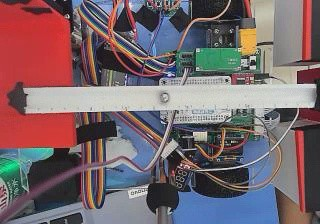ironball: (159, 91, 169, 102)
